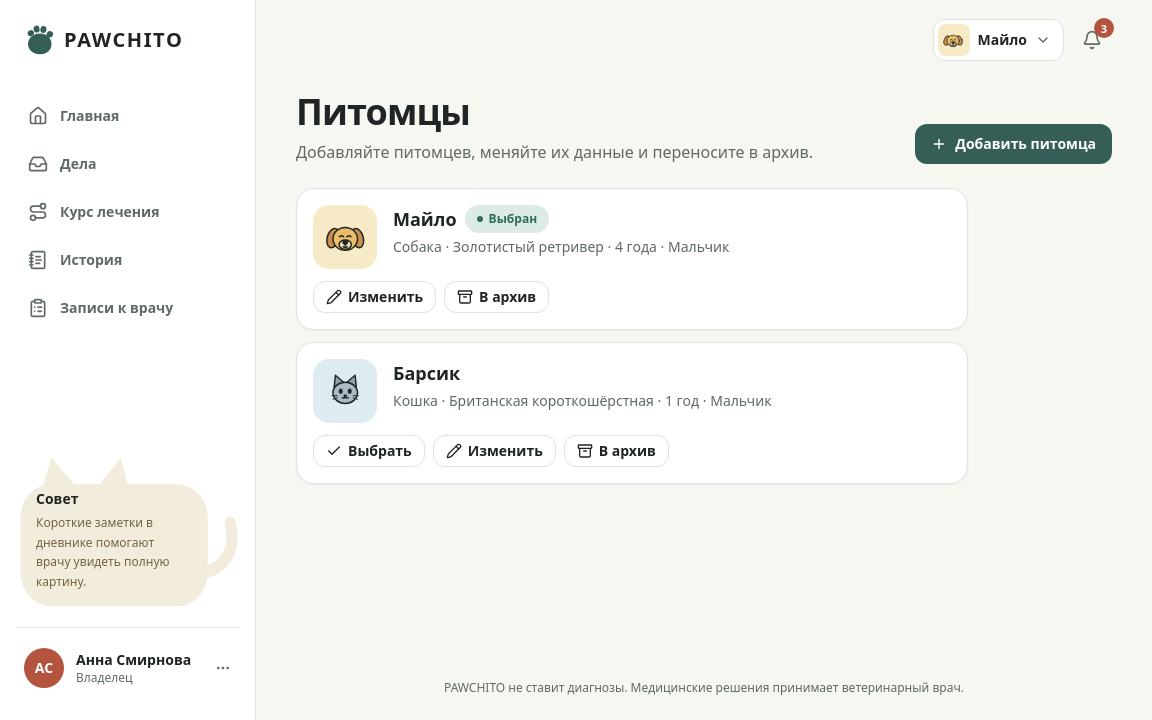
PetsPage: архив › выбранный питомец уходит в архив: пропадает из списка, переключатель берёт первого, фокус на списке
This screenshot has width=1152, height=720.
Click the button named "В архив, Майло": (497, 297) [444,281,549,313]
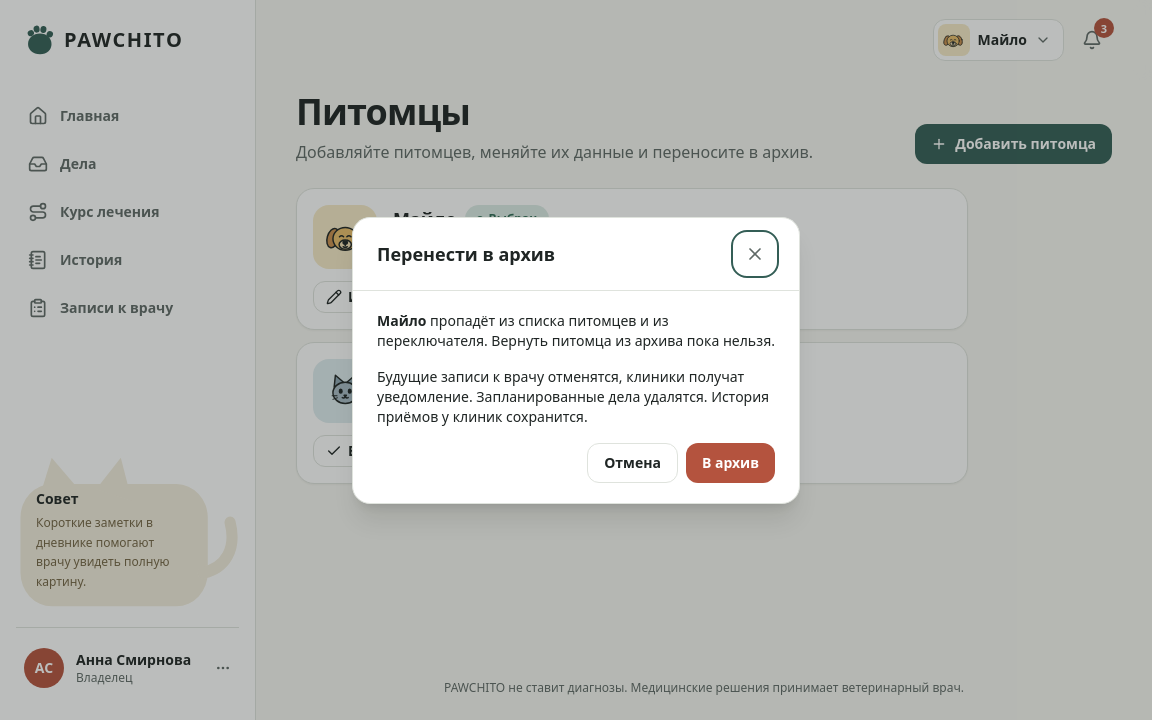
Click the button "В архив": (730, 462) [686,442,775,482]
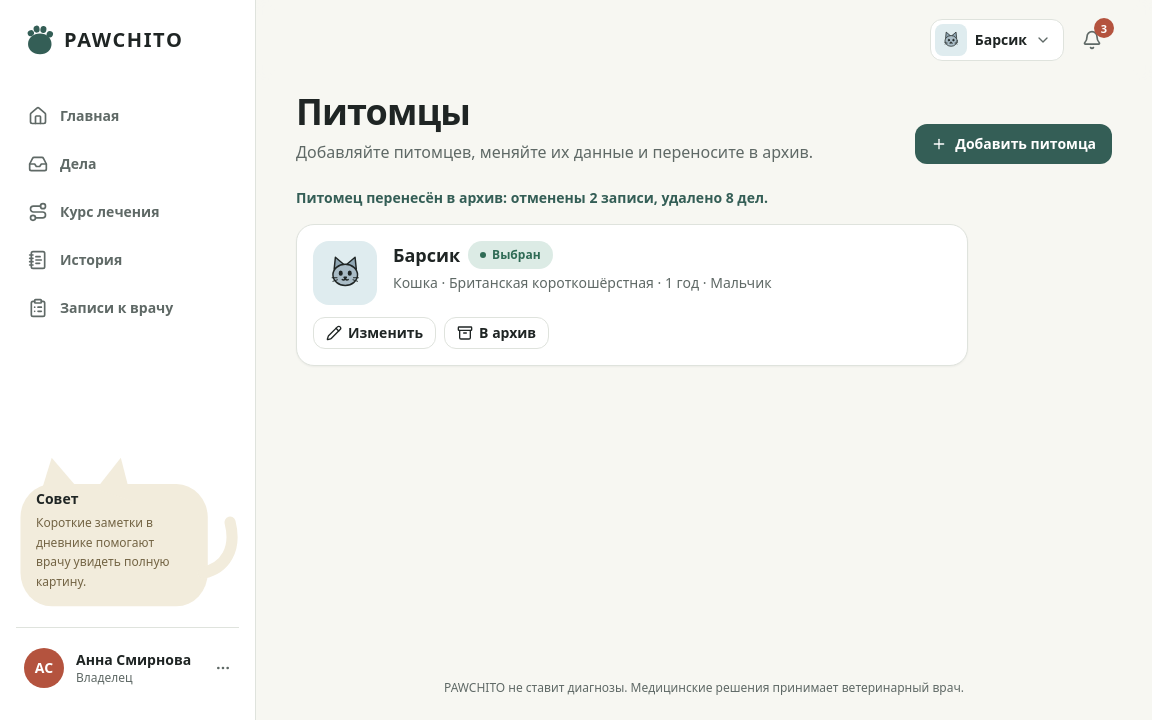
Expected: the text "Выбран" is shown, [468,241,553,269]
Now the text "Питомец перенесён в архив: отменены 2 записи, удалено 8 дел." is shown, box [296,188,768,207]
